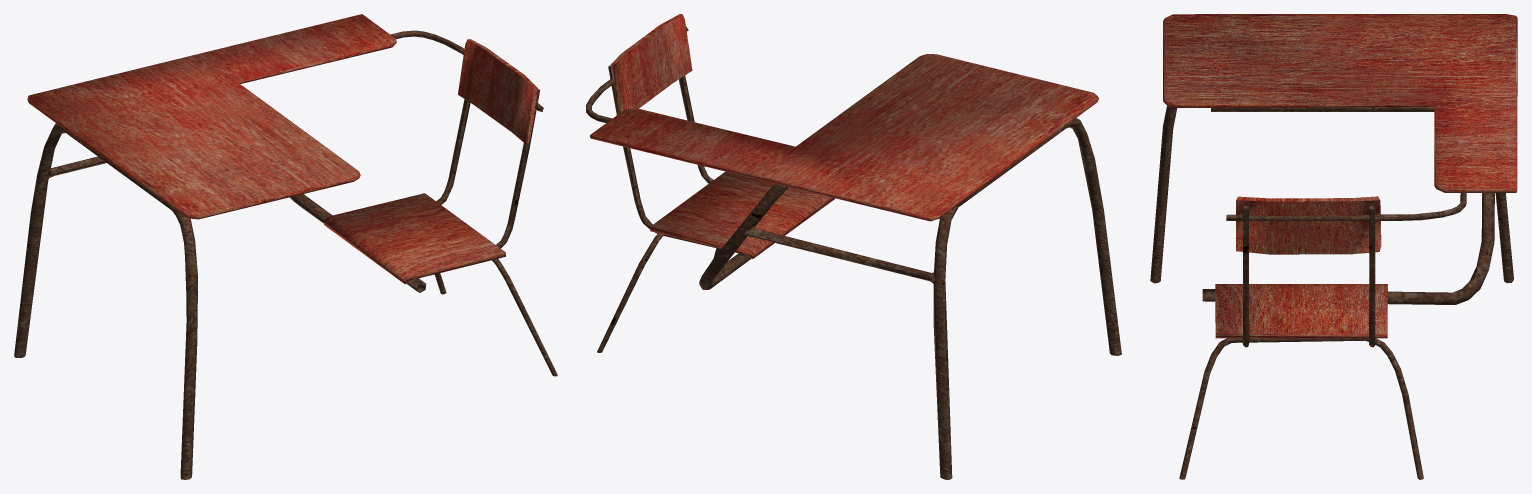
Rendered from schooldesk.glb.
3 views of the same model, side by side, from view 1: azimuth 30°, elevation 25°; view 2: azimuth 150°, elevation 25°; view 3: azimuth 270°, elevation 25° (orthographic). The views are drawn at different scales.
Parts seen in each view (by area): view 1: schooldesk; view 2: schooldesk; view 3: schooldesk.
Boxes of the visible parts, x1,y1,x2,y2 form: schooldesk: (14, 14, 557, 479); schooldesk: (586, 14, 1121, 479); schooldesk: (1150, 14, 1517, 479).
Size of what is drawn, in the model's own units: 1.34 by 0.8552 by 1.
Materials: 2 (2 with a texture image).
